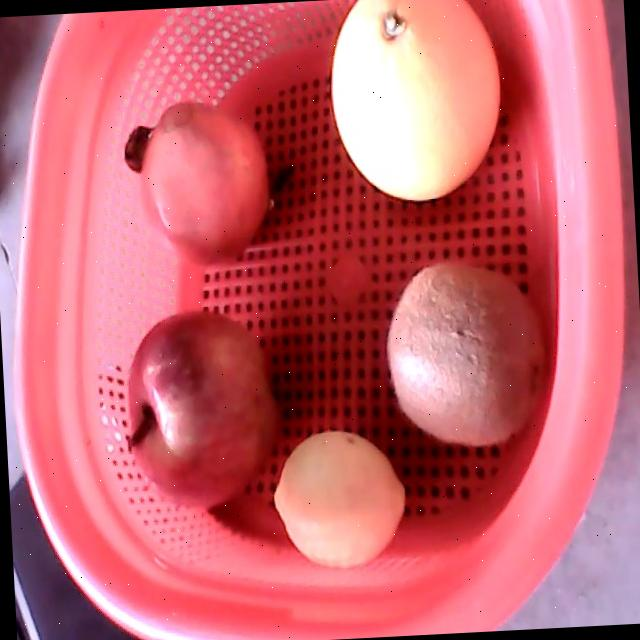apple: (127, 308, 283, 508)
kiwi: (385, 260, 551, 446)
lemon: (272, 427, 405, 568)
orange: (330, 0, 500, 202)
pomegranate: (122, 100, 270, 270)
